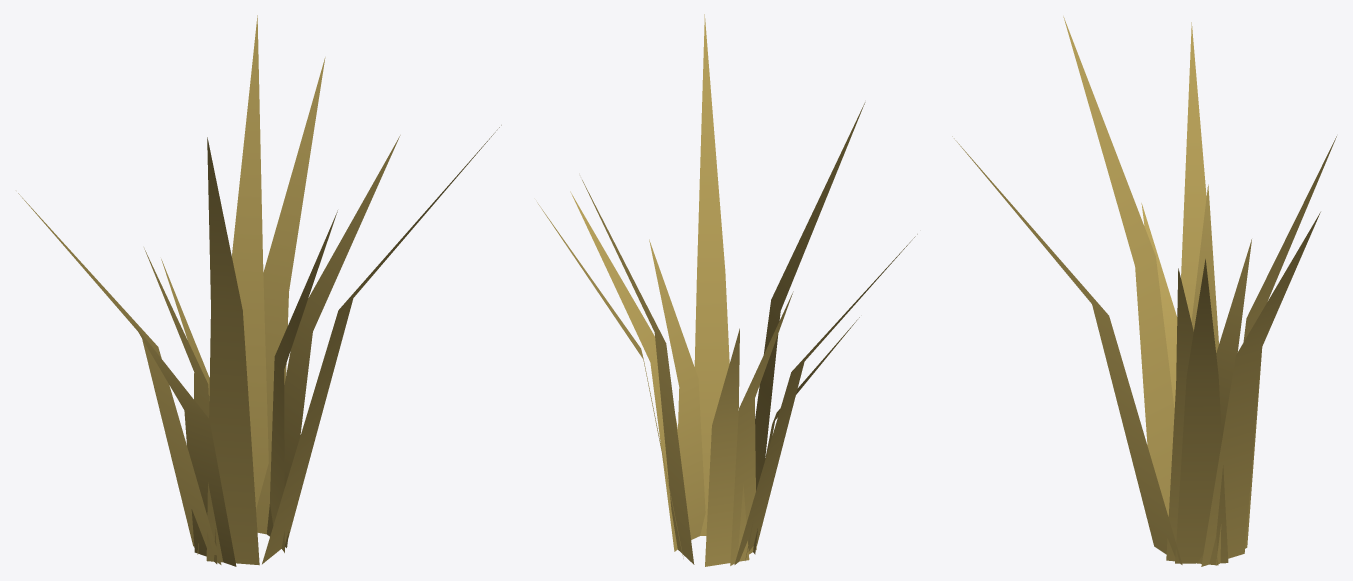
File: gras_2.obj
3 renders of one model, left to right at view 1: azimuth 30°, elevation 25°; view 2: azimuth 150°, elevation 25°; view 3: azimuth 270°, elevation 25°, orthographic. The views are drawn at different scales.
Visible parts, largest first — view 1: gras_2_Koerper; view 2: gras_2_Koerper; view 3: gras_2_Koerper.
Boxes of the visible parts, x1=… form: gras_2_Koerper: x1=18, y1=15, x2=501, y2=566; gras_2_Koerper: x1=537, y1=14, x2=917, y2=566; gras_2_Koerper: x1=952, y1=16, x2=1336, y2=566.
Bounding box in the file's own units: 0.5905 × 0.6991 × 0.5085.
